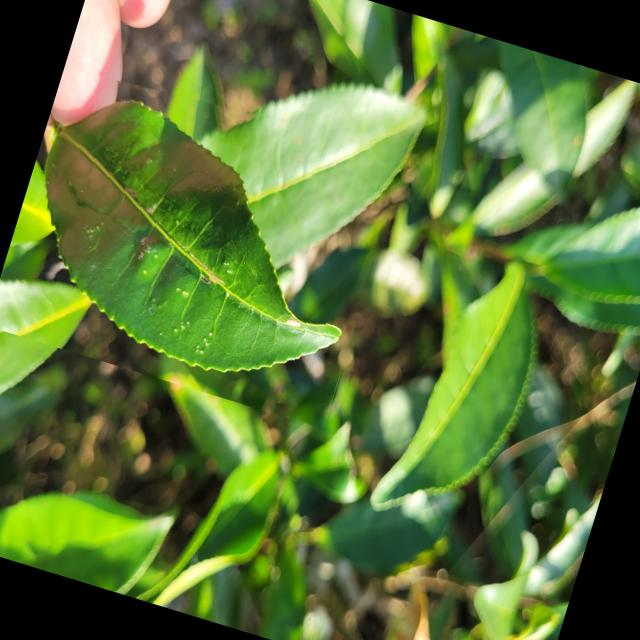Category D(7+ days, Not for Tea): (0, 49, 409, 429)
